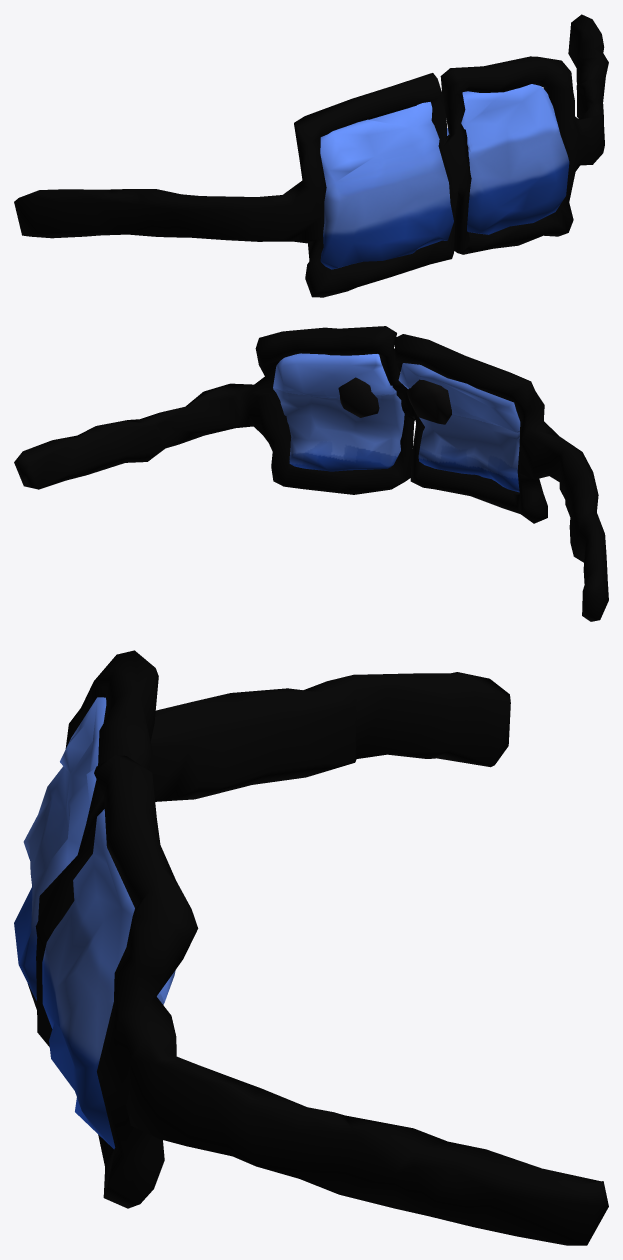
Rendered from nerd glasses.glb.
3 views of the same model, one above another, from view 1: azimuth 30°, elevation 25°; view 2: azimuth 150°, elevation 25°; view 3: azimuth 270°, elevation 25° (orthographic). The views are drawn at different scales.
Visible parts, largest first — view 1: eyes_glasses.001; view 2: eyes_glasses.001; view 3: eyes_glasses.001.
Part boxes in pixels (box(x1,y1,x2,y2)): eyes_glasses.001: box(14, 14, 608, 297); eyes_glasses.001: box(14, 326, 608, 621); eyes_glasses.001: box(14, 650, 608, 1245).
Size of the model in its own units: 0.3251 by 0.1009 by 0.1518.
3 materials, 3 textured.
